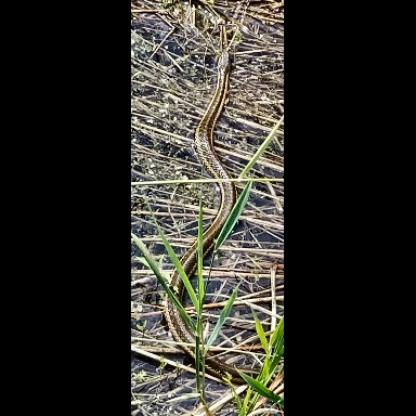Snake: (194, 44, 243, 268)
